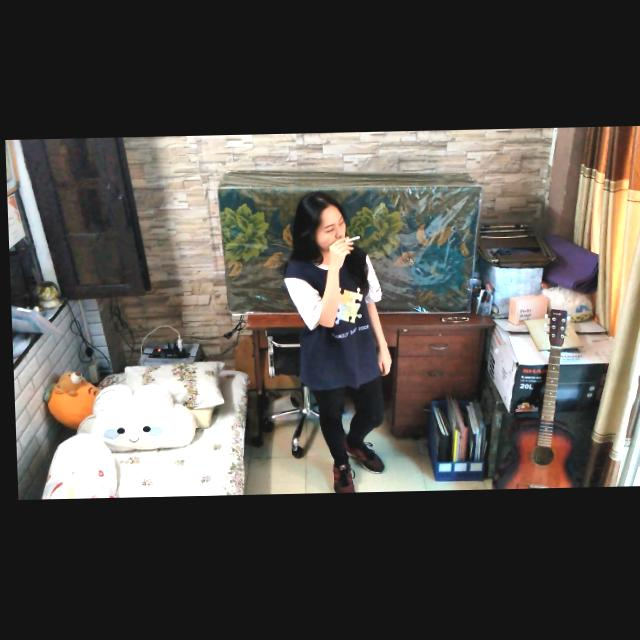cigarette: (343, 238, 358, 244)
